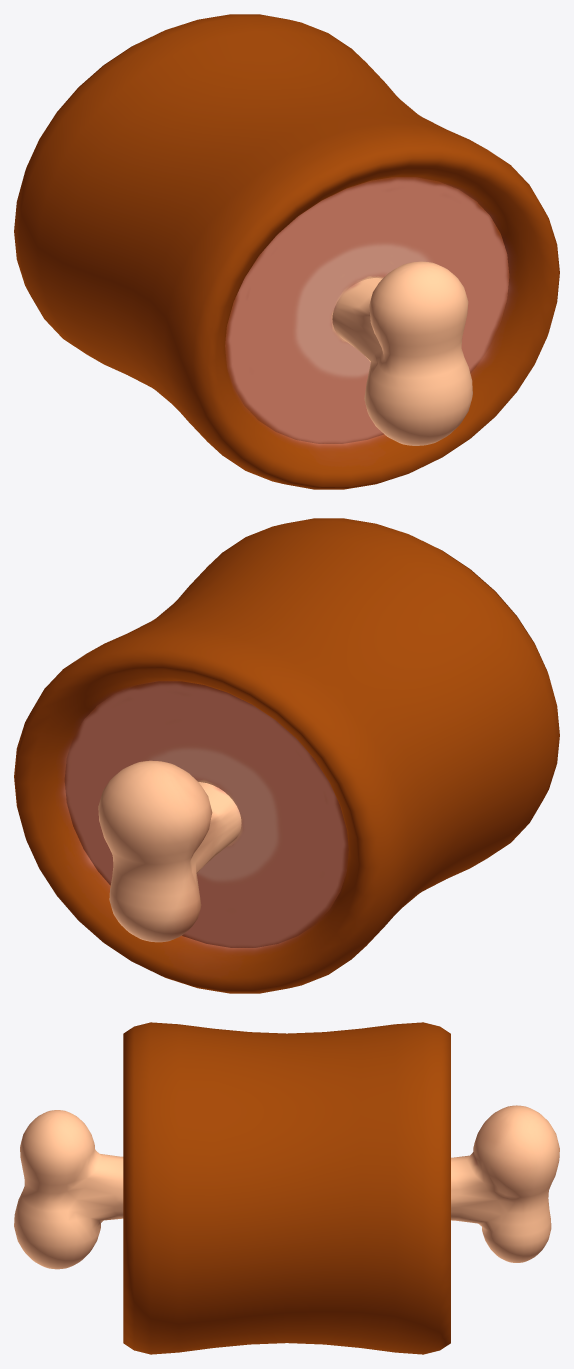
File: bone_loaf_meat.glb
3 renders of one model, top to bottom at view 1: azimuth 30°, elevation 25°; view 2: azimuth 150°, elevation 25°; view 3: azimuth 270°, elevation 25°, orthographic. The views are drawn at different scales.
Parts seen in each view (by area): view 1: Sphere004; view 2: Sphere004; view 3: Sphere004.
Part boxes in pixels (box(x1,y1,x2,y2)): Sphere004: box(14, 14, 559, 489); Sphere004: box(14, 518, 559, 993); Sphere004: box(14, 1022, 559, 1354).
Size of the model in its own units: 61.6 by 53.48 by 90.39.
1 material, 1 textured.
